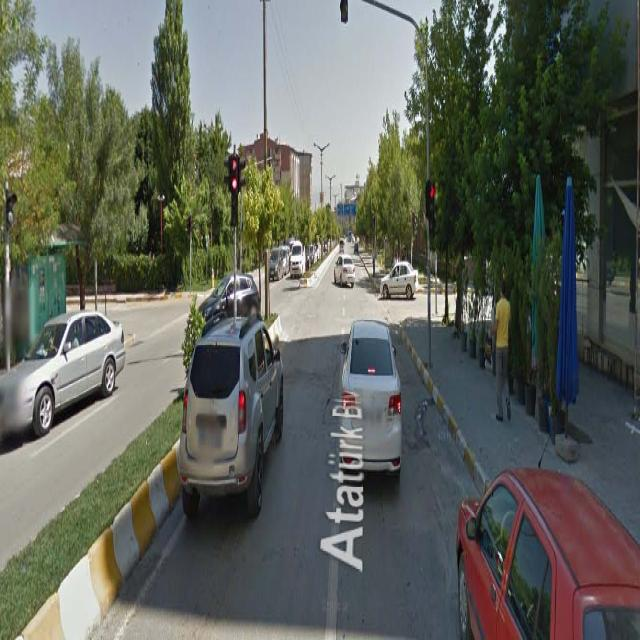kirmizi: (428, 178, 435, 239), (229, 176, 238, 222)
